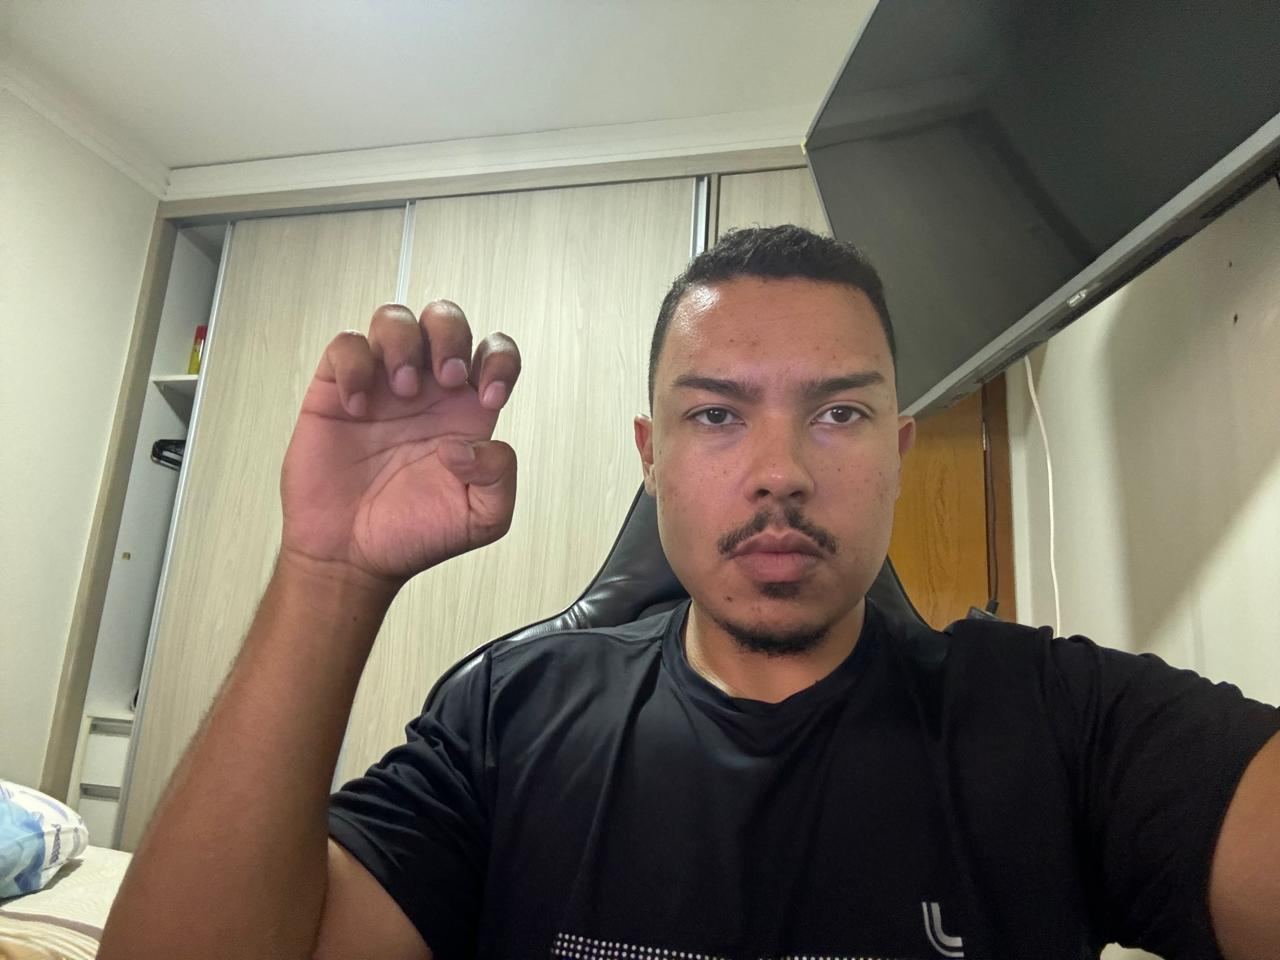e: (274, 293, 530, 585)
